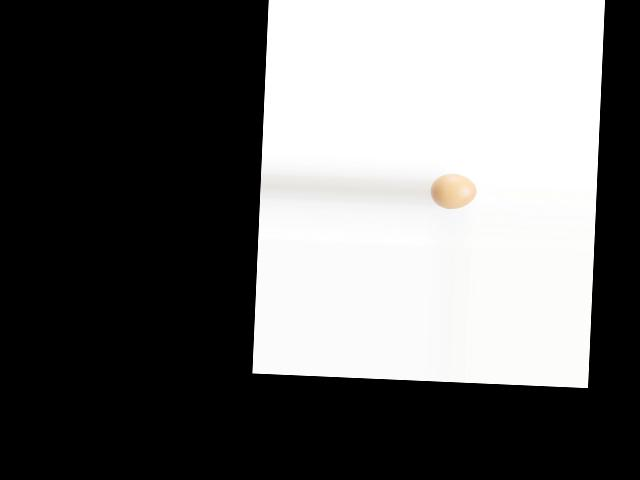egg: (429, 173, 476, 210)
